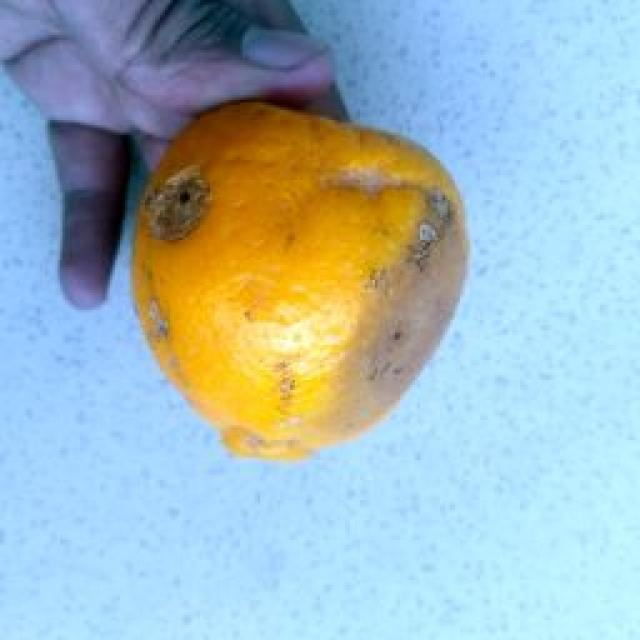Bad_Orange: (135, 102, 462, 458)
